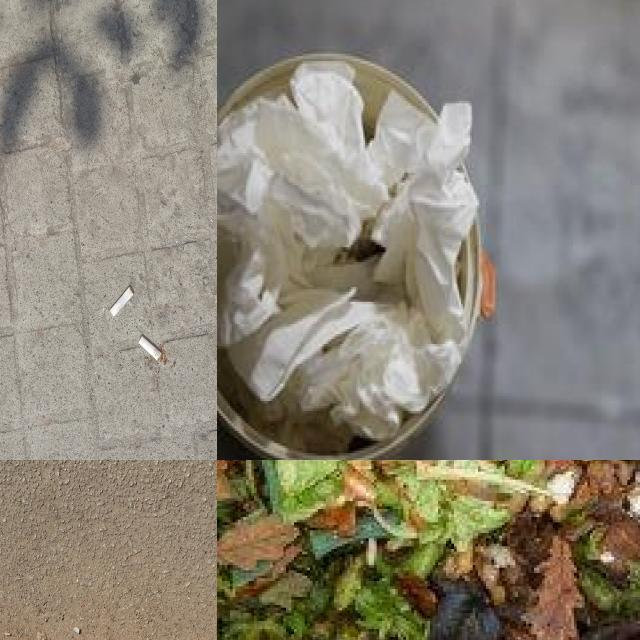Background: (0, 460, 217, 640)
Cig_bud: (110, 285, 134, 318), (138, 336, 162, 361)
Garbage: (217, 460, 640, 640)
Paper: (217, 62, 477, 448)
contaminated_waste: (217, 62, 477, 447)
top_view_waste: (217, 60, 477, 437)
